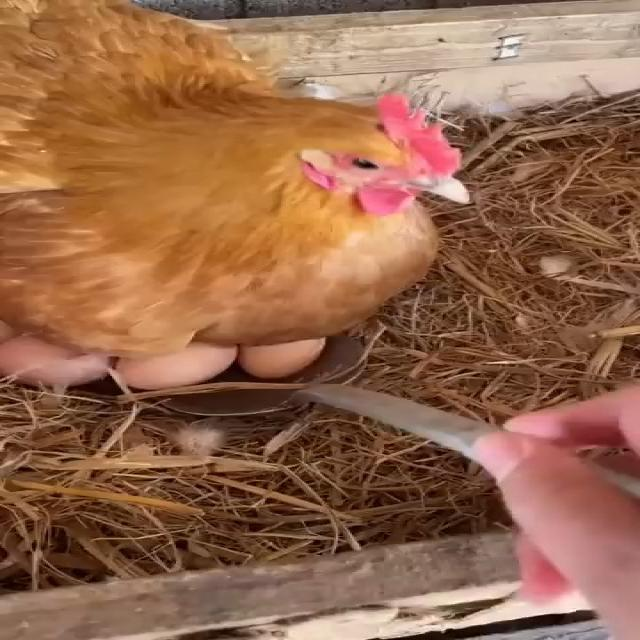crouch chicken: (0, 0, 501, 380)
